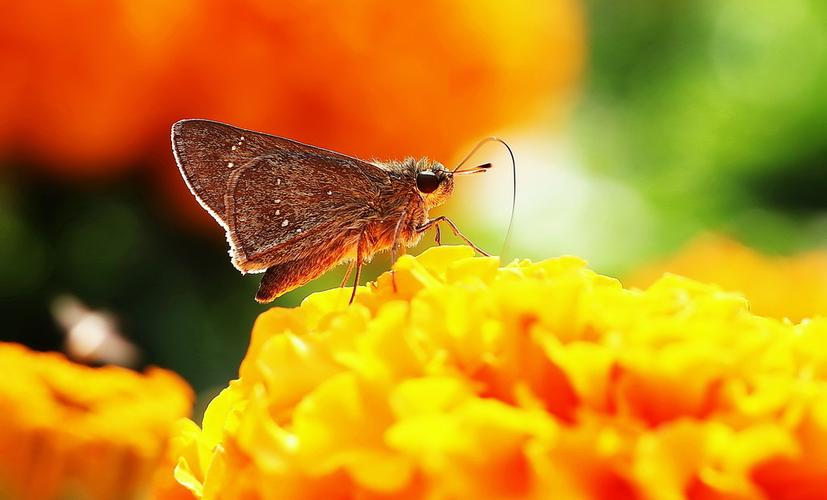Hesperiidae: (169, 104, 526, 303)
